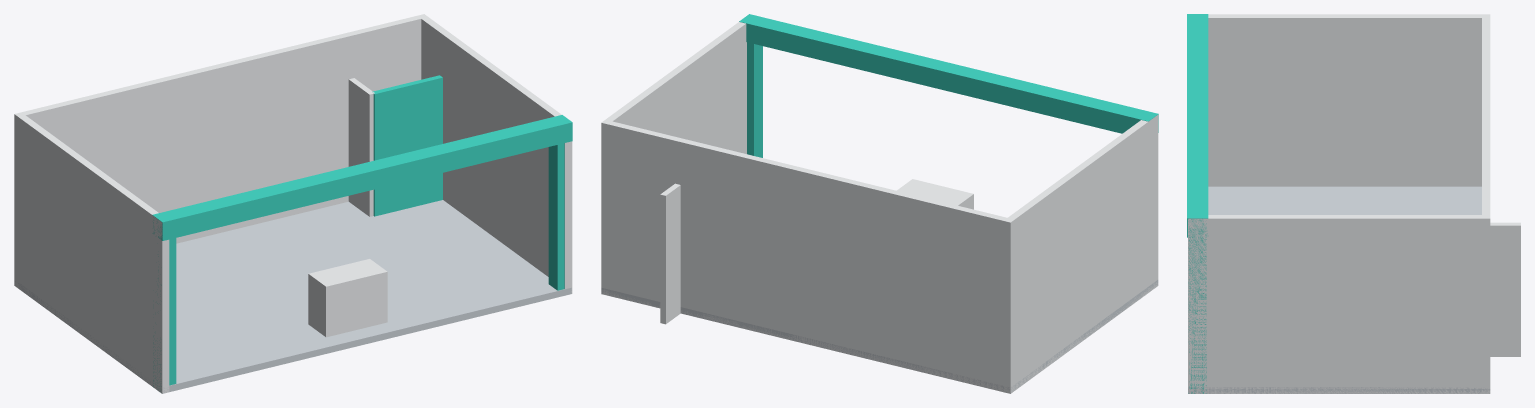
3 views of the same model, side by side, from view 1: azimuth 30°, elevation 25°; view 2: azimuth 150°, elevation 25°; view 3: azimuth 270°, elevation 25° (orthographic). The views are drawn at different scales.
Parts seen in each view (by area): view 1: Exhibition Booth Concept; view 2: Exhibition Booth Concept; view 3: Exhibition Booth Concept.
Boxes of the visible parts, x1,y1,x2,y2 form: Exhibition Booth Concept: (14, 14, 572, 393); Exhibition Booth Concept: (601, 14, 1158, 393); Exhibition Booth Concept: (1187, 14, 1520, 393).
Bounding box in the file's own units: 8 × 3.2 × 5.52.
